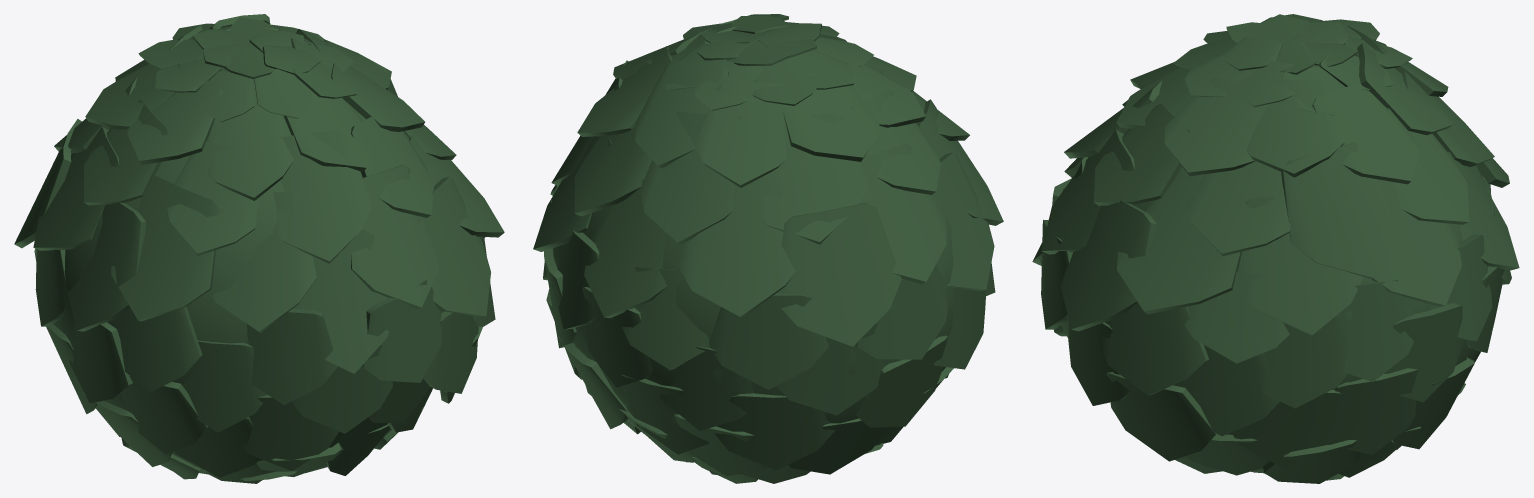
The model's file is dragon egg 3.fbx.
The picture shows the model from 3 angles, left to right: view 1: azimuth 30°, elevation 25°; view 2: azimuth 150°, elevation 25°; view 3: azimuth 270°, elevation 25°; orthographic projection.
Parts seen in each view (by area): view 1: group18; view 2: group18; view 3: group18.
Boxes of the visible parts, bbox=[...] form: group18: bbox=[14, 14, 504, 483]; group18: bbox=[533, 14, 1003, 483]; group18: bbox=[1032, 14, 1519, 483].
Bounding box in the file's own units: 7.82 × 7.96 × 8.14.
